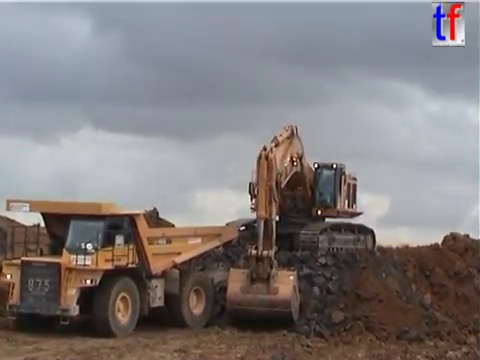excavator: (222, 121, 380, 324)
truck: (1, 196, 241, 339)
